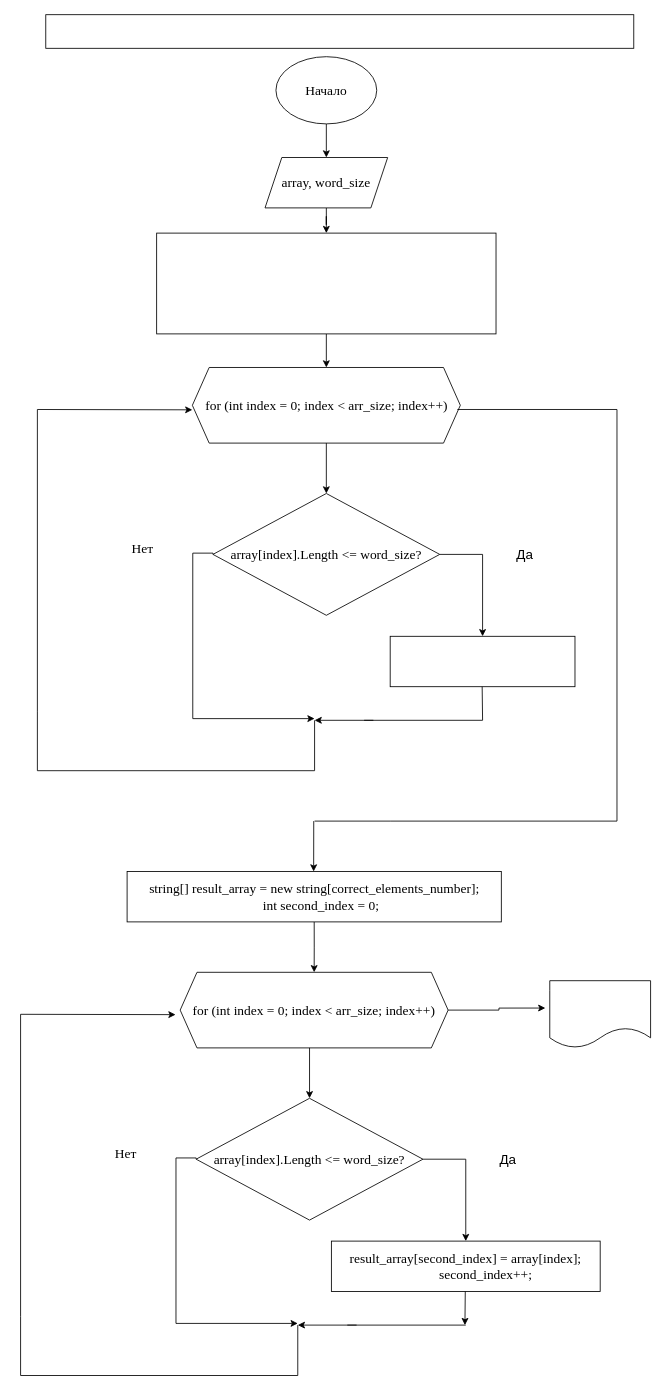
Some shapes in this 665 by 1391 pixel diagram are drawn without their labels. Each missing label, with the centre of its shape:
correct_elements_number ++: (x=482, y=661)
int arr_size = array.Length; int correct_elements_number = 0;: (x=326, y=283)
result_array: (x=600, y=1014)
Метод string[] filter_string_arr( string[] array, int word_size): (x=339, y=31)
